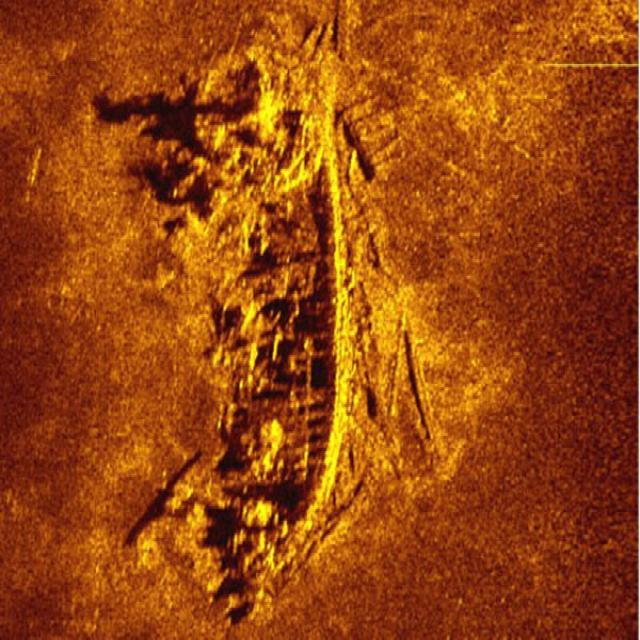shipwreck: (195, 49, 368, 596)
